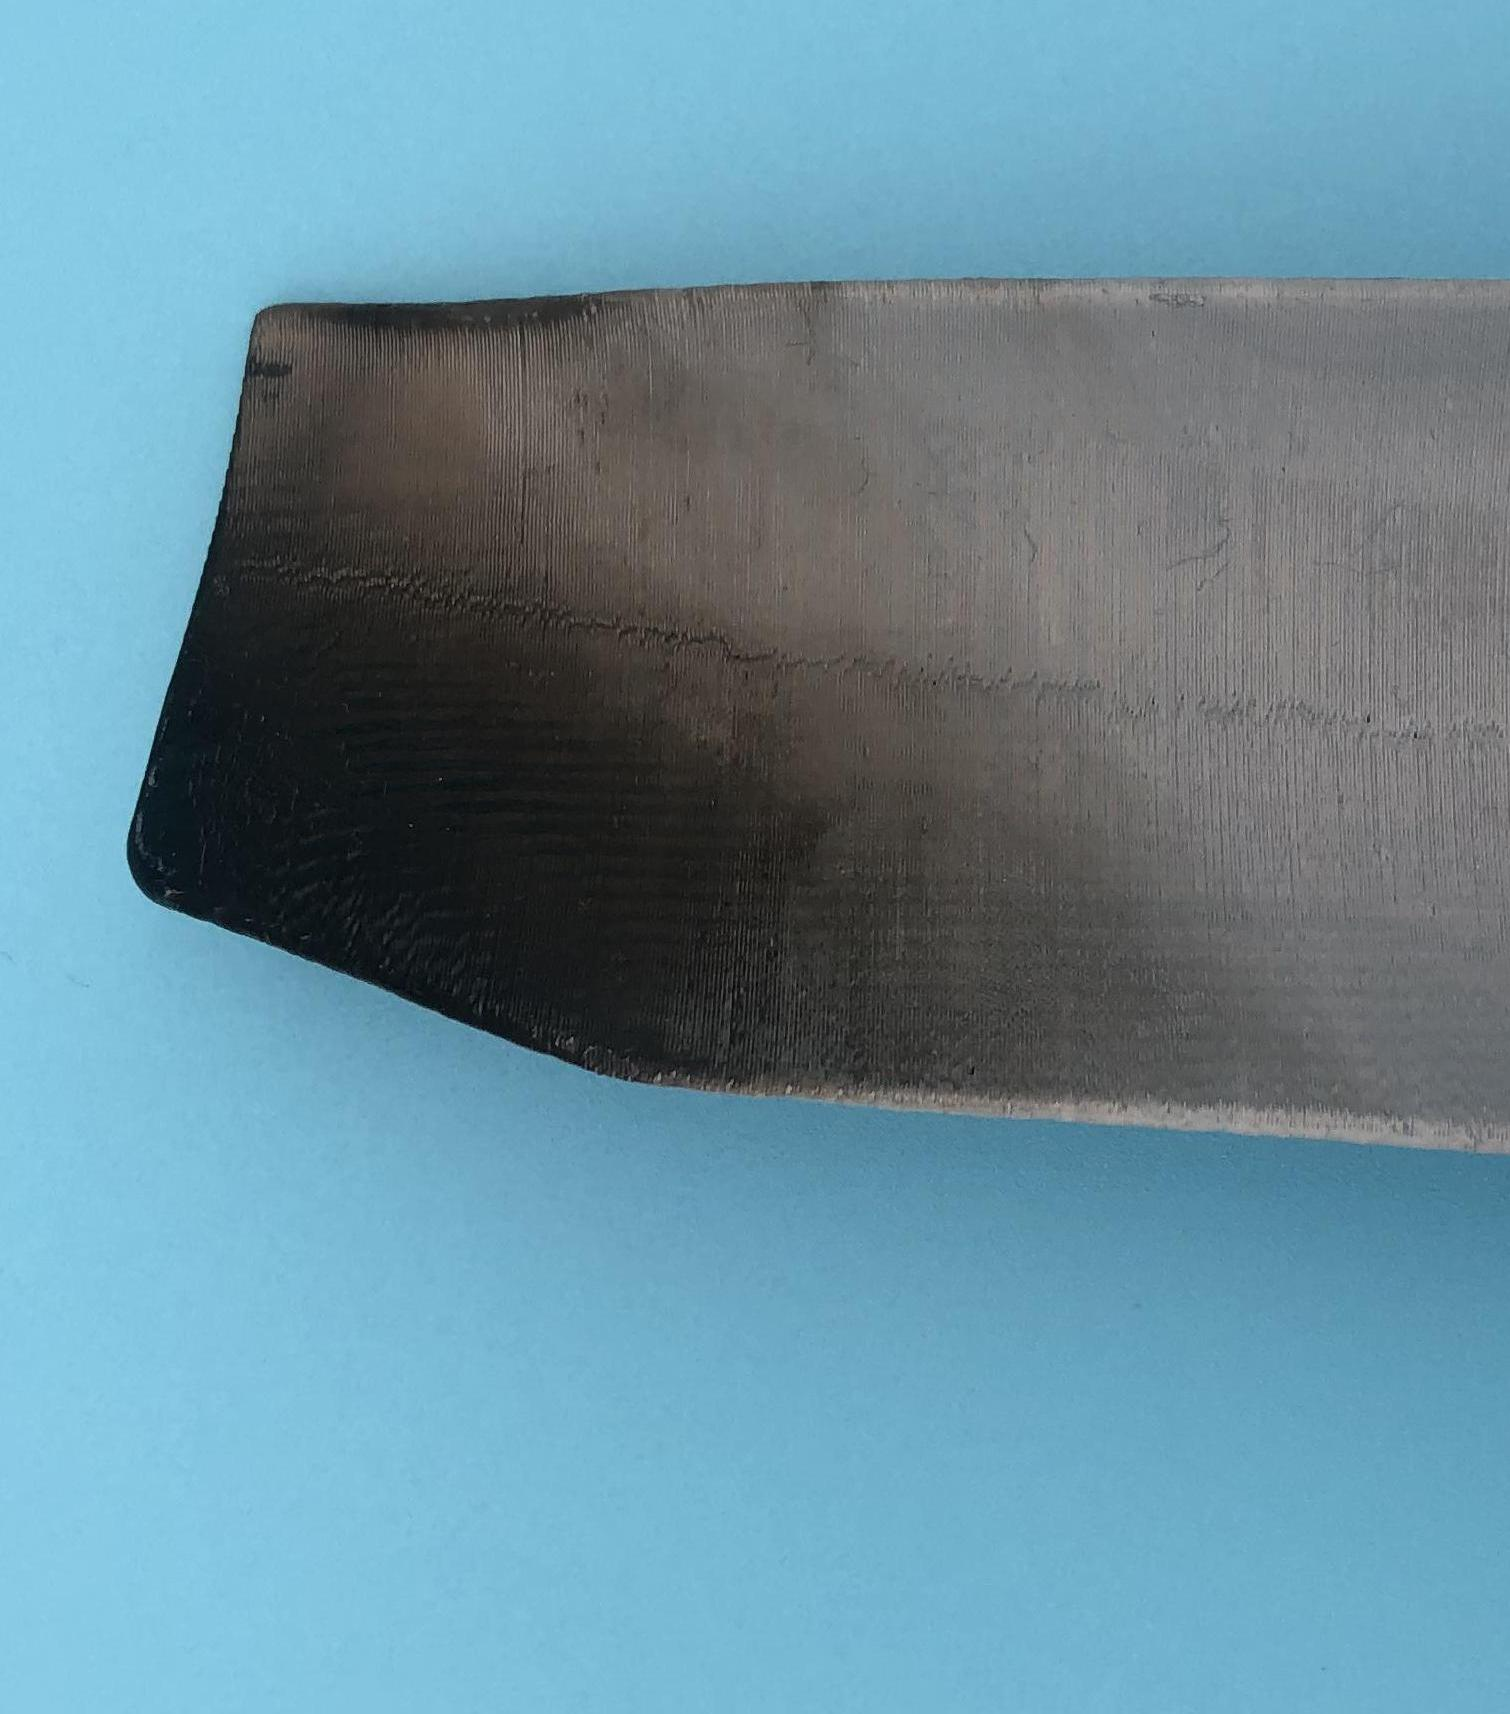ablation: (240, 347, 934, 1073)
